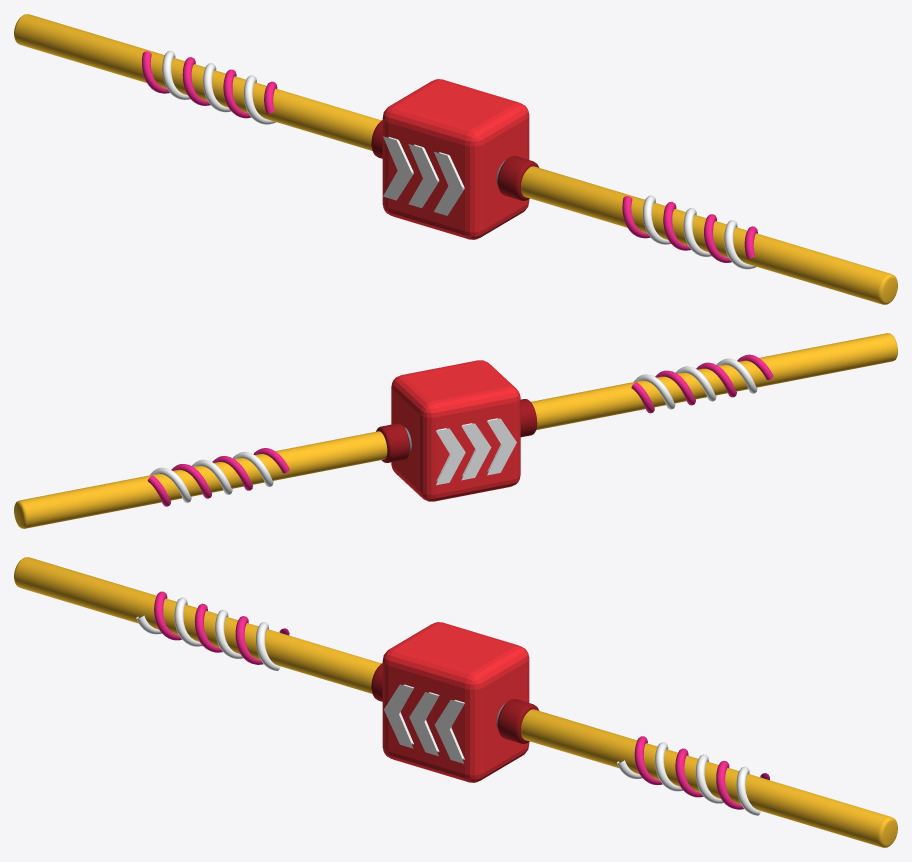
The model's file is rotating_obstacle.fbx.
3 views of the same model, one above another, from view 1: azimuth 90°, elevation 25°; view 2: azimuth 150°, elevation 25°; view 3: azimuth 270°, elevation 25° (orthographic). The views are drawn at different scales.
Parts seen in each view (by area): view 1: Red center housing, Yellow arm L, Yellow arm R, Pink spiral R, Pink spiral L, White spiral R, White spiral L, Coupling L, Chevron back 1, Chevron back 2, Chevron back 3; view 2: Red center housing, Yellow arm R, Yellow arm L, Pink spiral L, Pink spiral R, White spiral L, White spiral R, Coupling R, Chevron back 2, Chevron back 1, Chevron back 3, Coupling L; view 3: Red center housing, Yellow arm R, Yellow arm L, White spiral L, White spiral R, Pink spiral L, Pink spiral R, Coupling R, Chevron front 2, Chevron front 1, Chevron front 3.
Boxes of the visible parts, x1=… form: Red center housing: x1=382, y1=79, x2=529, y2=239; Yellow arm L: x1=521, y1=166, x2=897, y2=304; Yellow arm R: x1=14, y1=14, x2=381, y2=150; Pink spiral R: x1=142, y1=51, x2=277, y2=118; Pink spiral L: x1=622, y1=196, x2=757, y2=262; White spiral R: x1=162, y1=50, x2=276, y2=124; White spiral L: x1=643, y1=195, x2=756, y2=269; Coupling L: x1=497, y1=156, x2=539, y2=200; Chevron back 1: x1=434, y1=151, x2=464, y2=215; Chevron back 2: x1=408, y1=144, x2=439, y2=207; Chevron back 3: x1=383, y1=136, x2=413, y2=200; Red center housing: x1=391, y1=360, x2=520, y2=501; Yellow arm R: x1=14, y1=431, x2=387, y2=528; Yellow arm L: x1=531, y1=333, x2=897, y2=429; Pink spiral L: x1=631, y1=354, x2=773, y2=413; Pink spiral R: x1=147, y1=448, x2=289, y2=506; White spiral L: x1=633, y1=358, x2=757, y2=409; White spiral R: x1=150, y1=451, x2=273, y2=502; Coupling R: x1=376, y1=423, x2=409, y2=462; Chevron back 2: x1=461, y1=423, x2=491, y2=480; Chevron back 1: x1=487, y1=418, x2=516, y2=475; Chevron back 3: x1=436, y1=428, x2=465, y2=485; Coupling L: x1=520, y1=399, x2=537, y2=437; Red center housing: x1=382, y1=622, x2=529, y2=782; Yellow arm R: x1=521, y1=709, x2=897, y2=847; Yellow arm L: x1=14, y1=557, x2=381, y2=693; White spiral L: x1=136, y1=597, x2=280, y2=670; White spiral R: x1=617, y1=742, x2=760, y2=815; Pink spiral L: x1=154, y1=591, x2=289, y2=664; Pink spiral R: x1=634, y1=736, x2=769, y2=809; Coupling R: x1=497, y1=699, x2=539, y2=743; Chevron front 2: x1=409, y1=692, x2=439, y2=756; Chevron front 1: x1=384, y1=684, x2=413, y2=748; Chevron front 3: x1=435, y1=700, x2=464, y2=763.
Size of the model in its own units: 761 by 144 by 1049.
